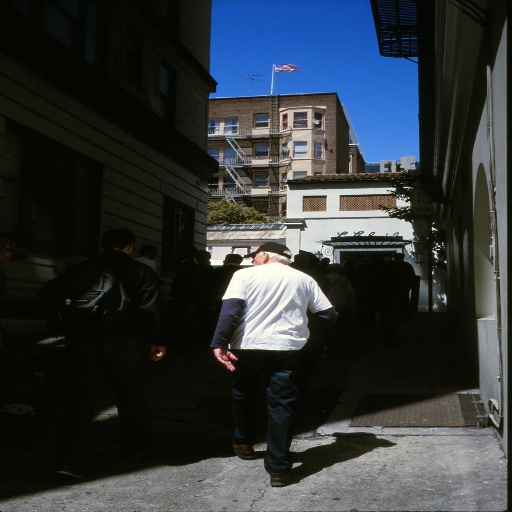hand: (206, 339, 248, 379), (147, 345, 165, 360)
